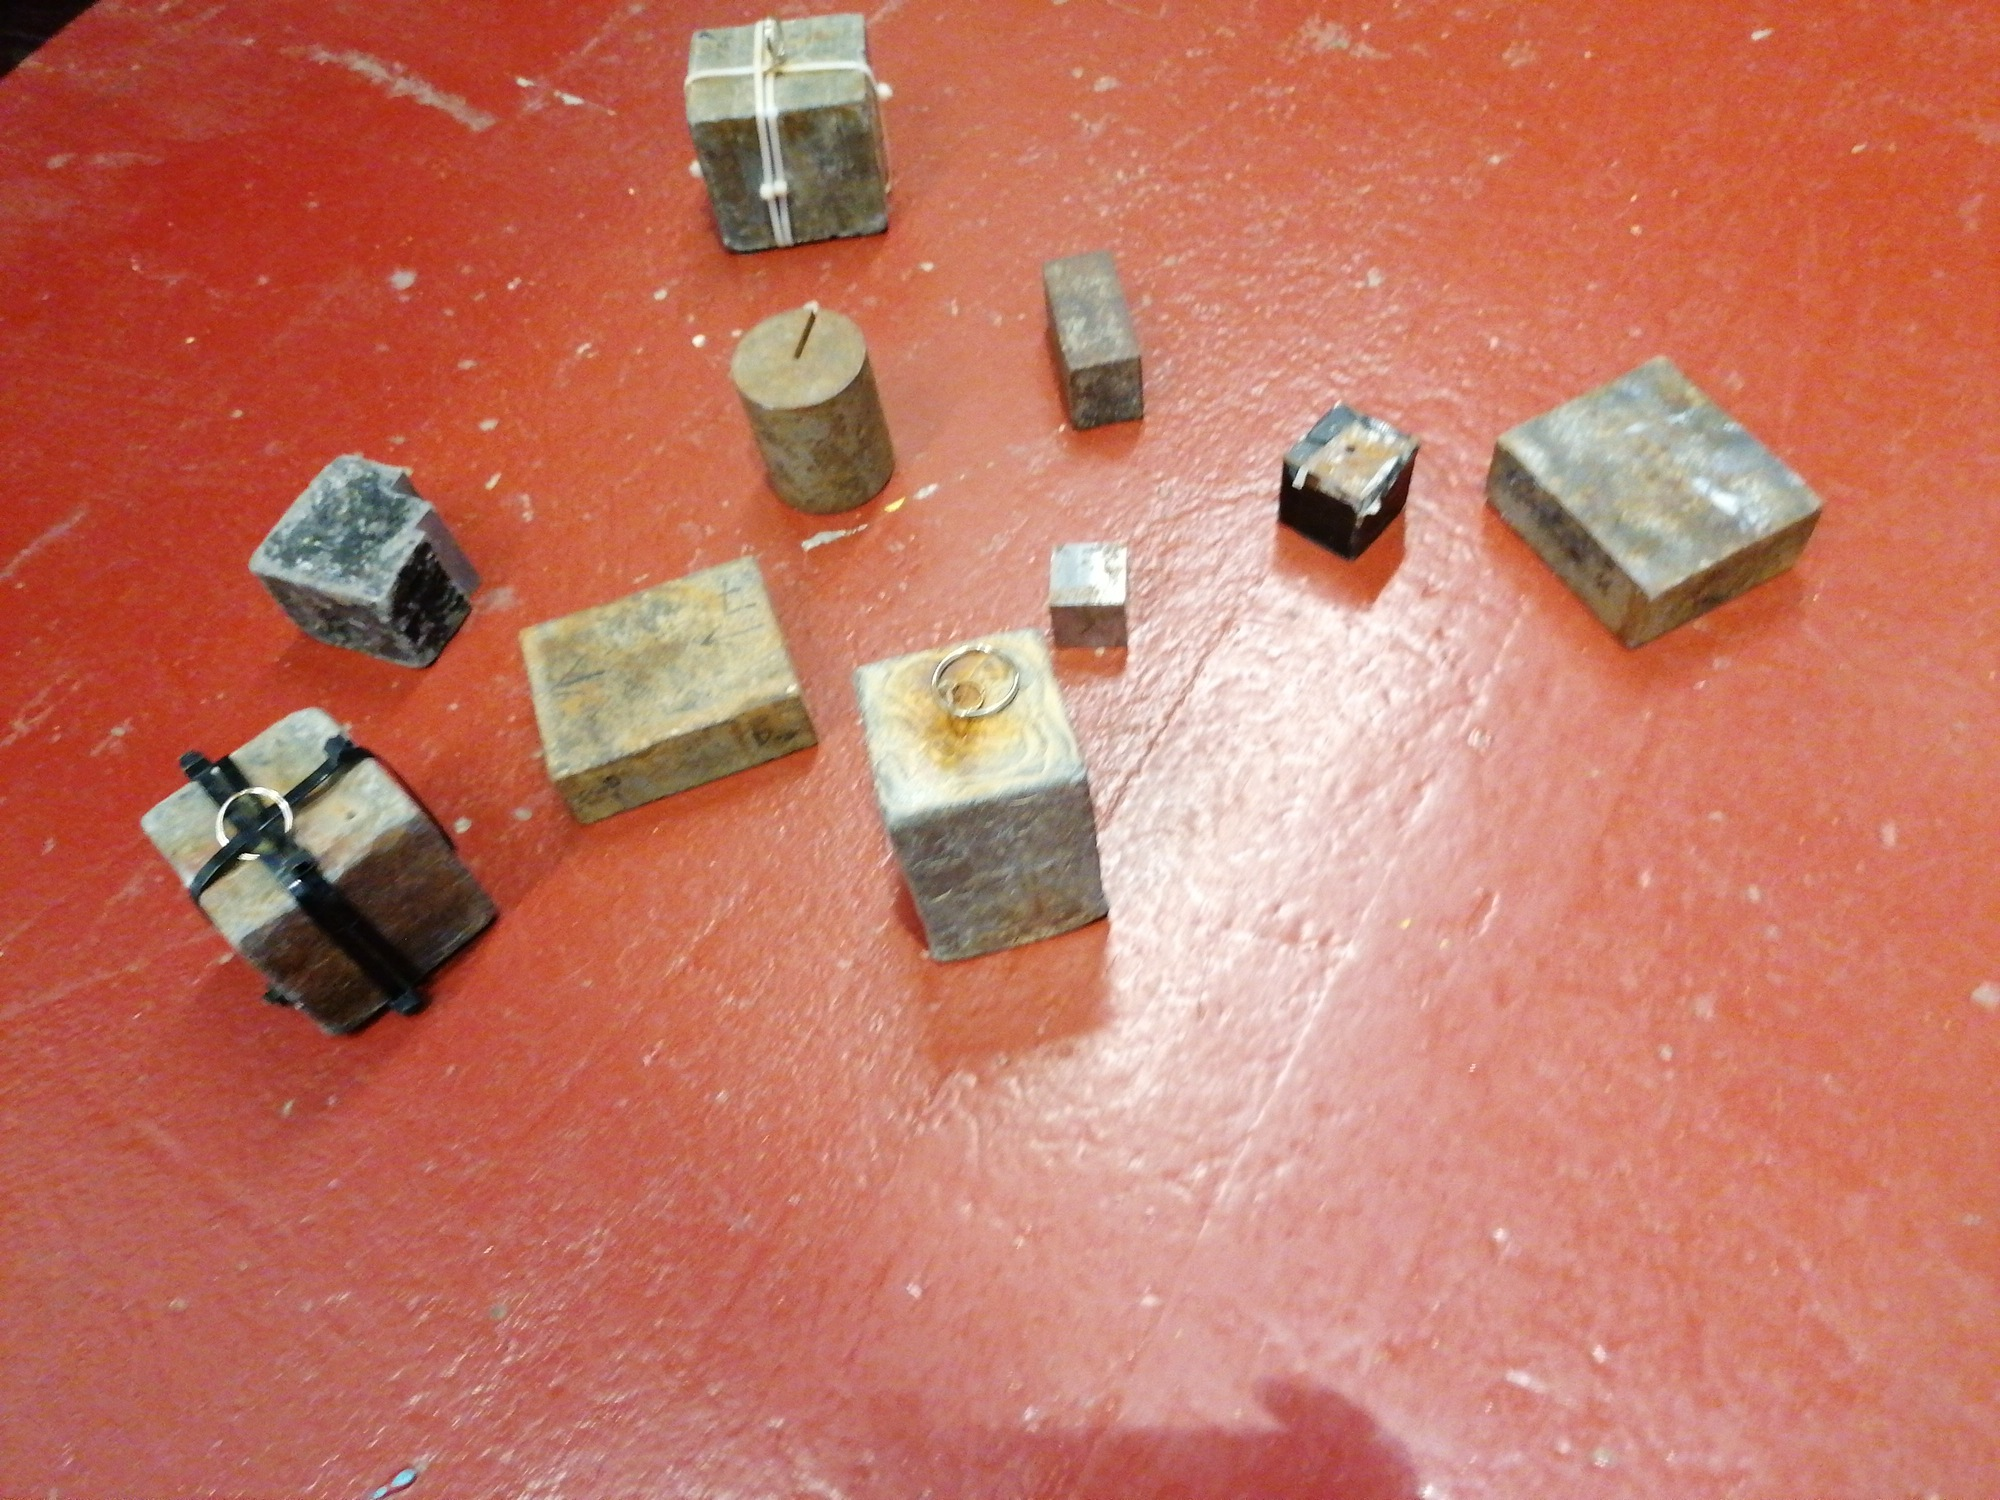lead-block: (140, 703, 504, 1045), (1480, 353, 1828, 649), (844, 627, 1113, 964), (518, 548, 817, 834), (249, 446, 488, 673), (679, 11, 894, 254), (729, 306, 896, 515), (1276, 395, 1424, 559), (1038, 243, 1154, 432), (1046, 536, 1132, 648)
